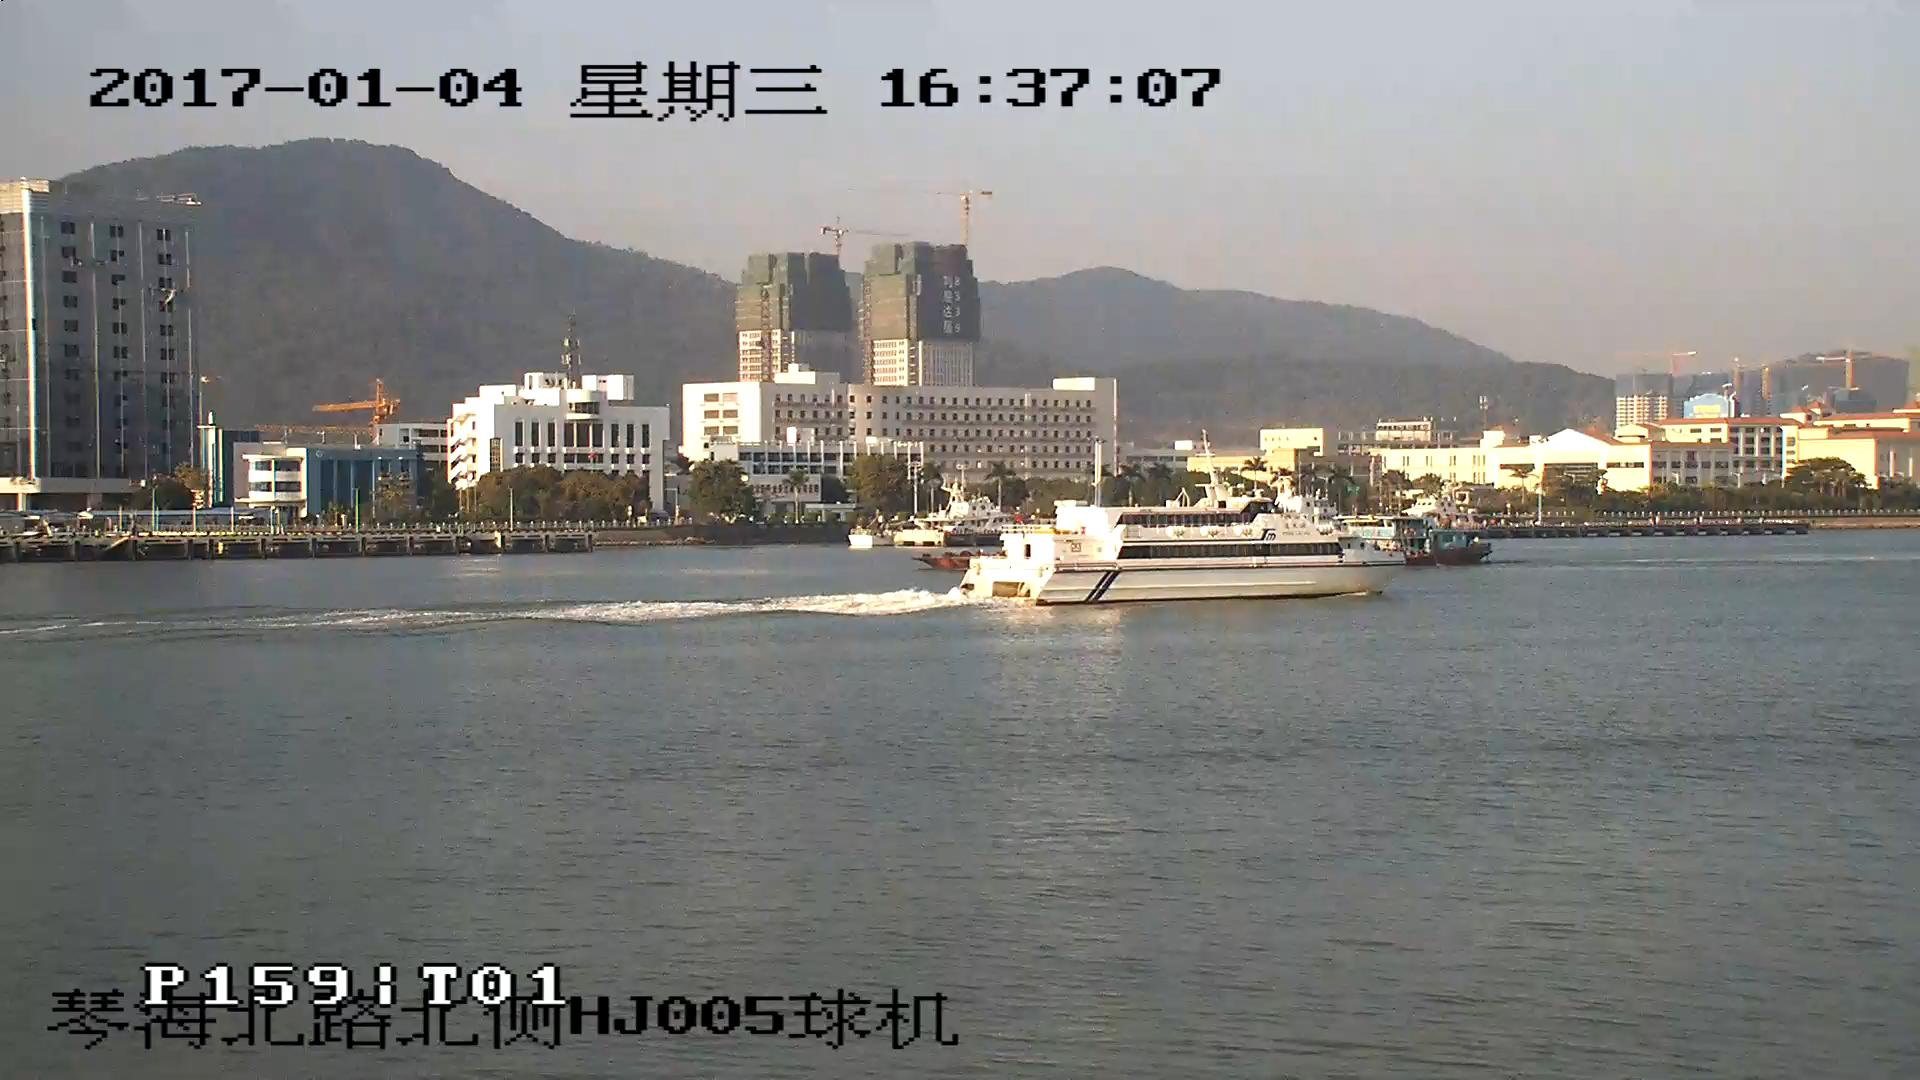passenger ship: (964, 440, 1402, 602)
